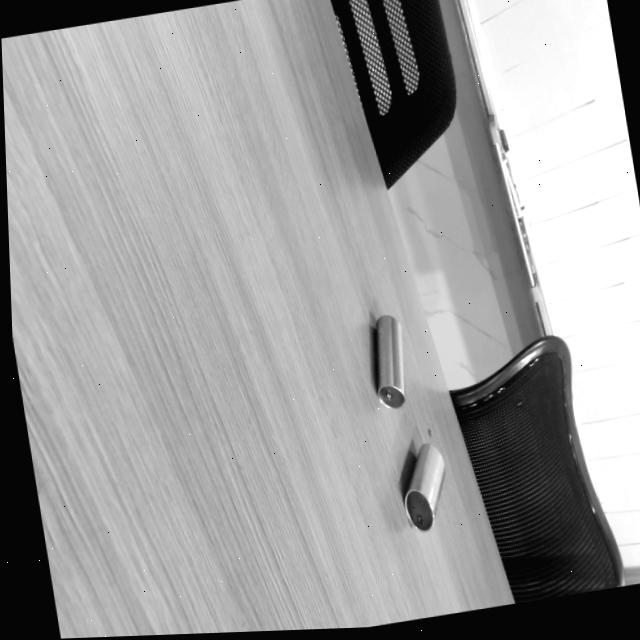Co_Lon: (397, 440, 451, 531)
Co_Nho: (373, 313, 405, 408)
